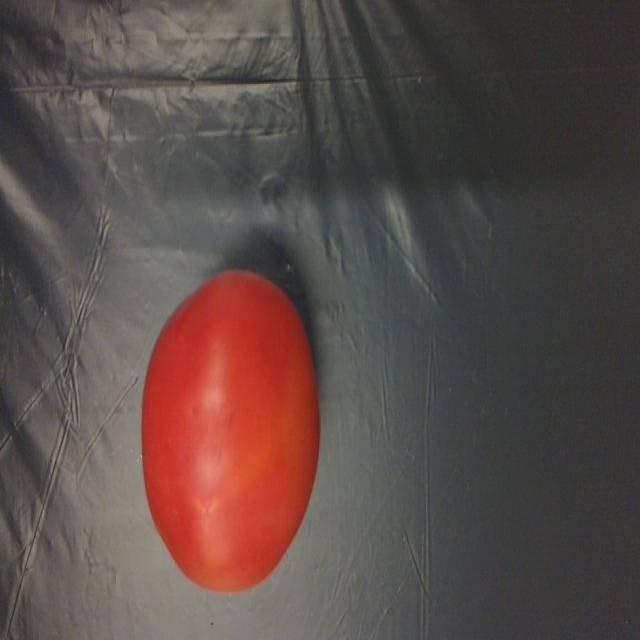kirmizi: (142, 257, 324, 594)
